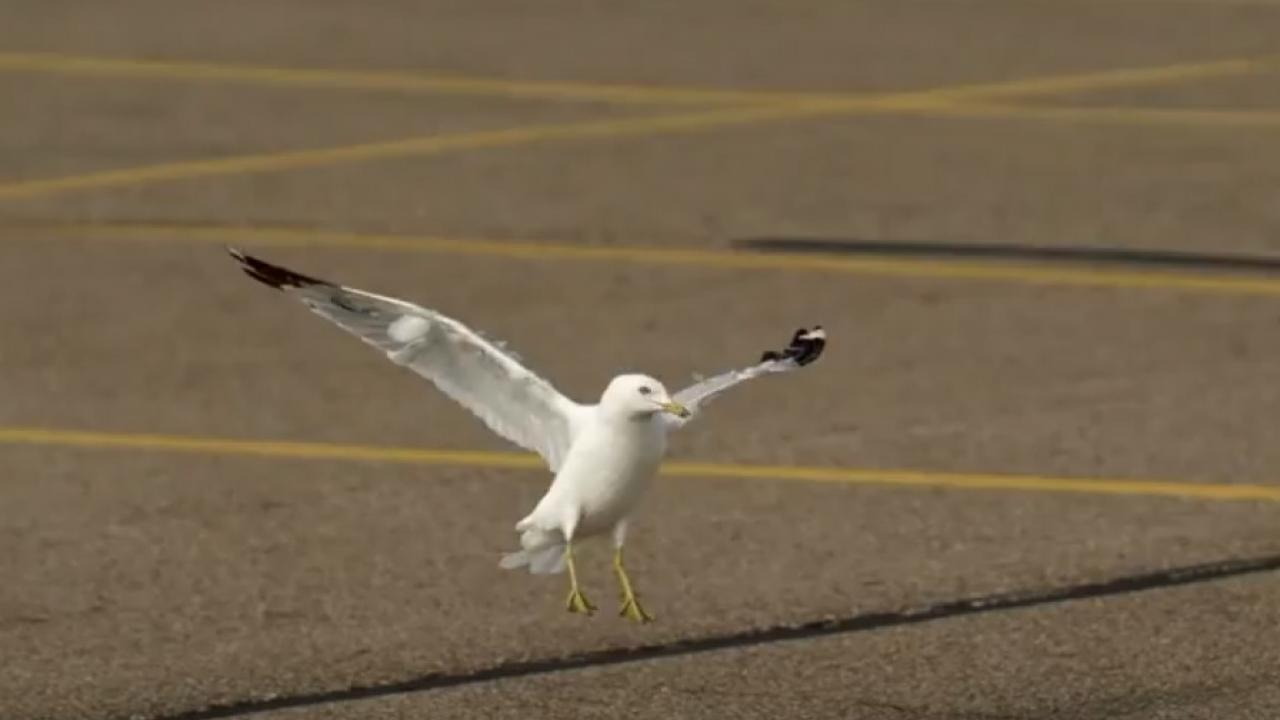Bird: (205, 239, 846, 642)
